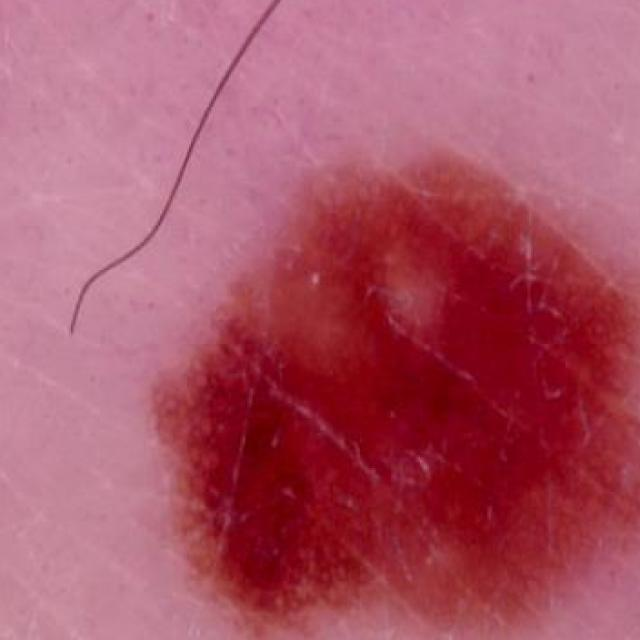NV: (142, 161, 640, 640)
